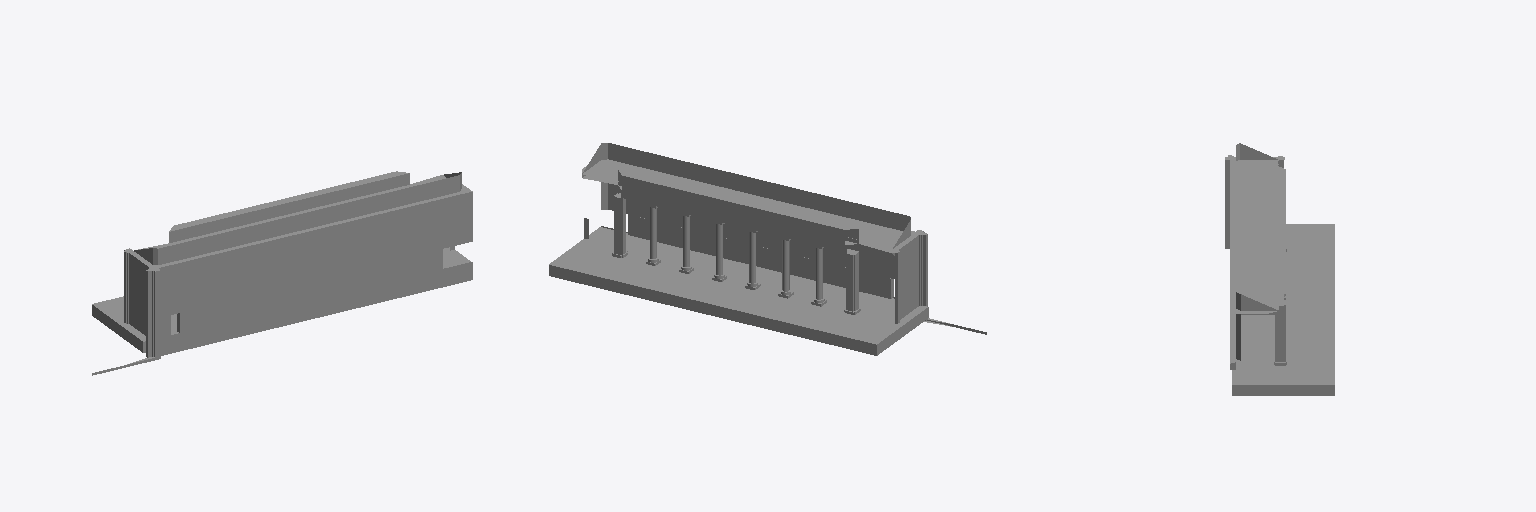
Rendered from hall_of_arch_crop.obj.
3 views of the same model, side by side, from view 1: azimuth 30°, elevation 25°; view 2: azimuth 150°, elevation 25°; view 3: azimuth 270°, elevation 25° (orthographic).
Parts seen in each view (by area): view 1: Cube; view 2: Cube; view 3: Cube.
Part boxes in pixels (left/top/right/bottom): Cube: left=92, top=171, right=472, bottom=375; Cube: left=549, top=143, right=986, bottom=355; Cube: left=1225, top=143, right=1334, bottom=395.
Size of the model in its own units: 8.56 by 2.25 by 2.15.